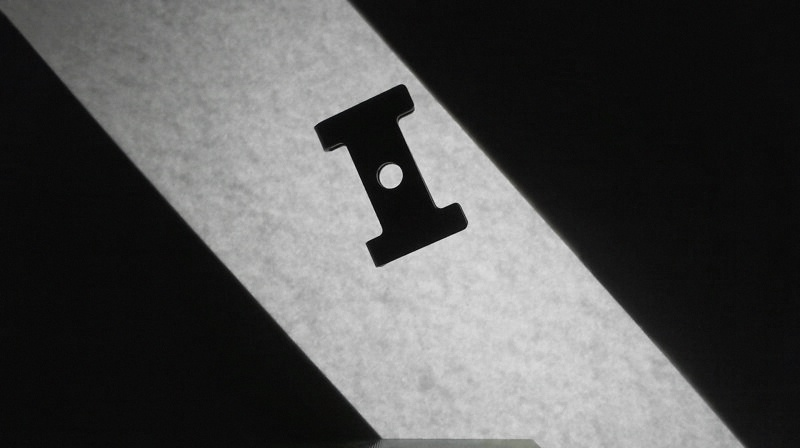O002: (311, 79, 471, 272)
